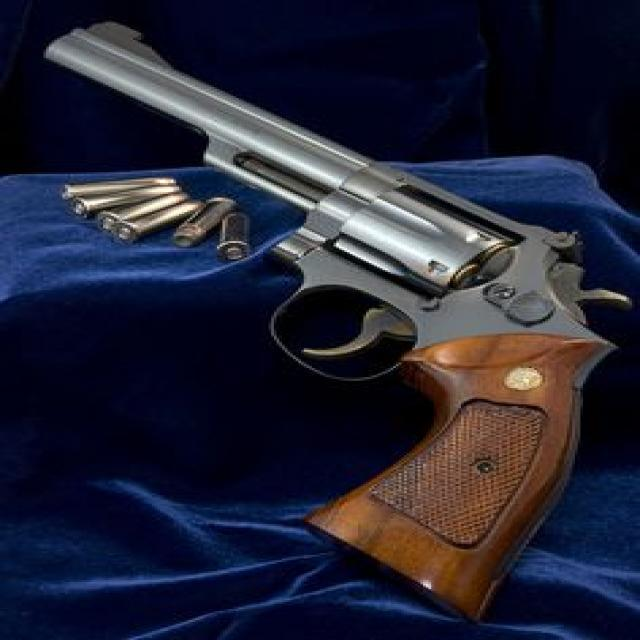semi automatic: (35, 14, 639, 640)
